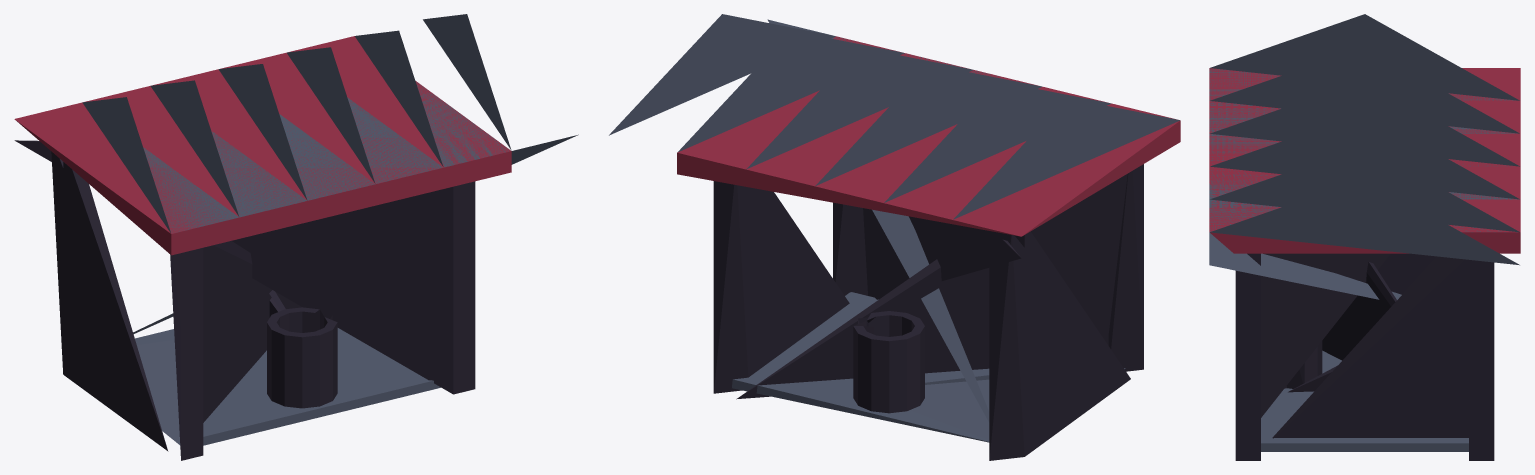
File: dojo_training_pavilion.obj
3 views of the same model, side by side, from view 1: azimuth 30°, elevation 25°; view 2: azimuth 150°, elevation 25°; view 3: azimuth 270°, elevation 25° (orthographic). The views are drawn at different scales.
Visible parts, largest first — view 1: dojo_training_pavilion; view 2: dojo_training_pavilion; view 3: dojo_training_pavilion.
Boxes of the visible parts, x1,y1,x2,y2 form: dojo_training_pavilion: (14, 14, 578, 460); dojo_training_pavilion: (609, 14, 1180, 460); dojo_training_pavilion: (1209, 14, 1520, 460).
Size of the model in its own units: 12 by 8.8 by 8.
